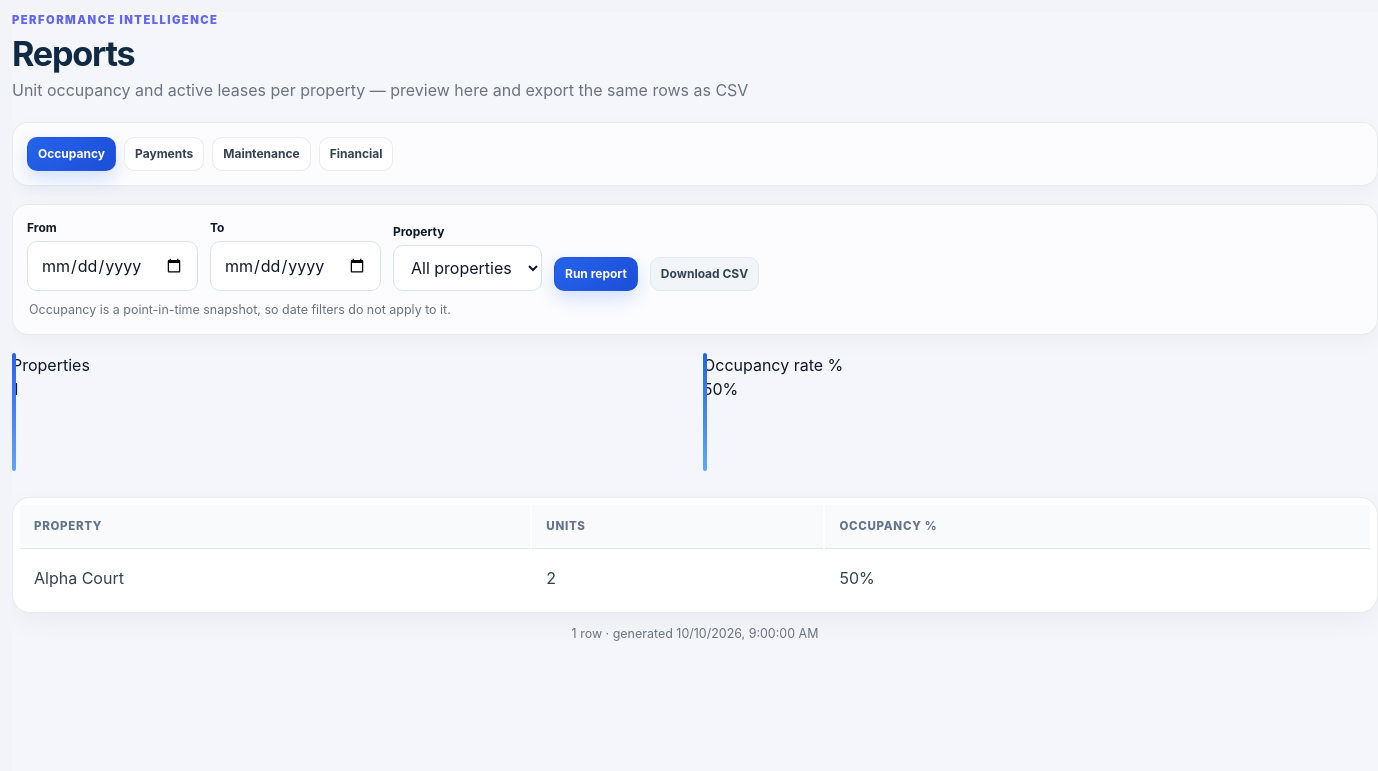
Test case: ManagerReports › flags download failures without losing the preview
Step 1. Click the button "Download CSV" → [705, 274], box [650,257,759,291]
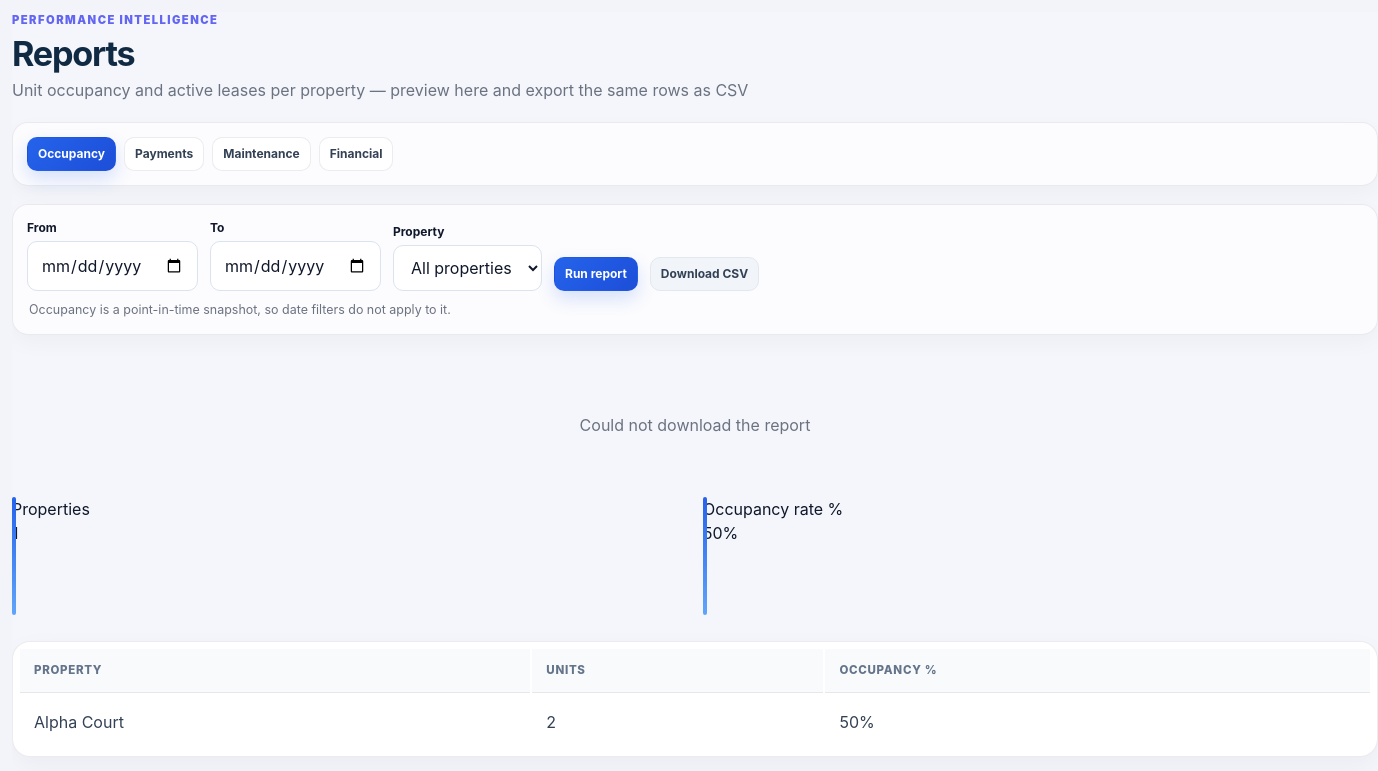
Check: the text "Could not download the report" is shown, box [580,415,810,435]
